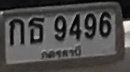txt01: (7, 17, 25, 46)
txt19: (27, 16, 45, 44)
